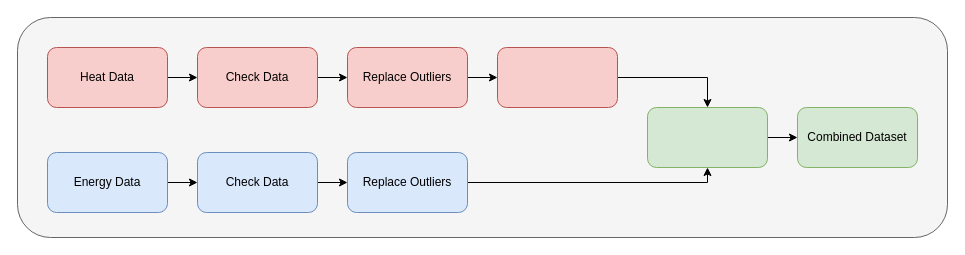
Image size: 965x255. Some labels were removed from this diagram. The box of each missing label's shape, as (x1, y1, x2, y2) in pixels:
Calculate Median per Month over France: (496, 46, 618, 108)
Merge Datasets on Year & Month: (646, 106, 768, 168)
